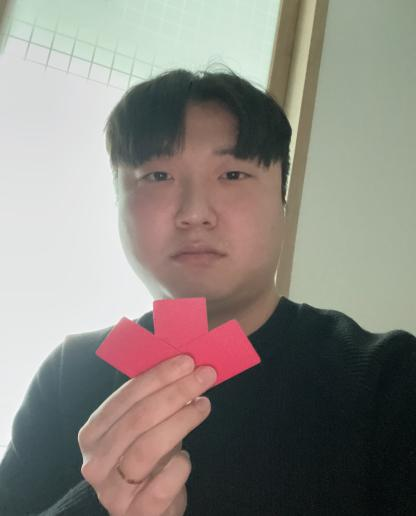ThreeHwatoo: (82, 292, 286, 412)
